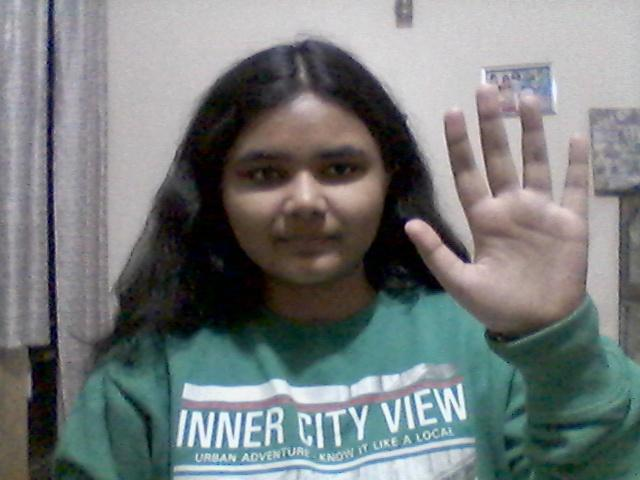hello: (383, 79, 609, 343)
